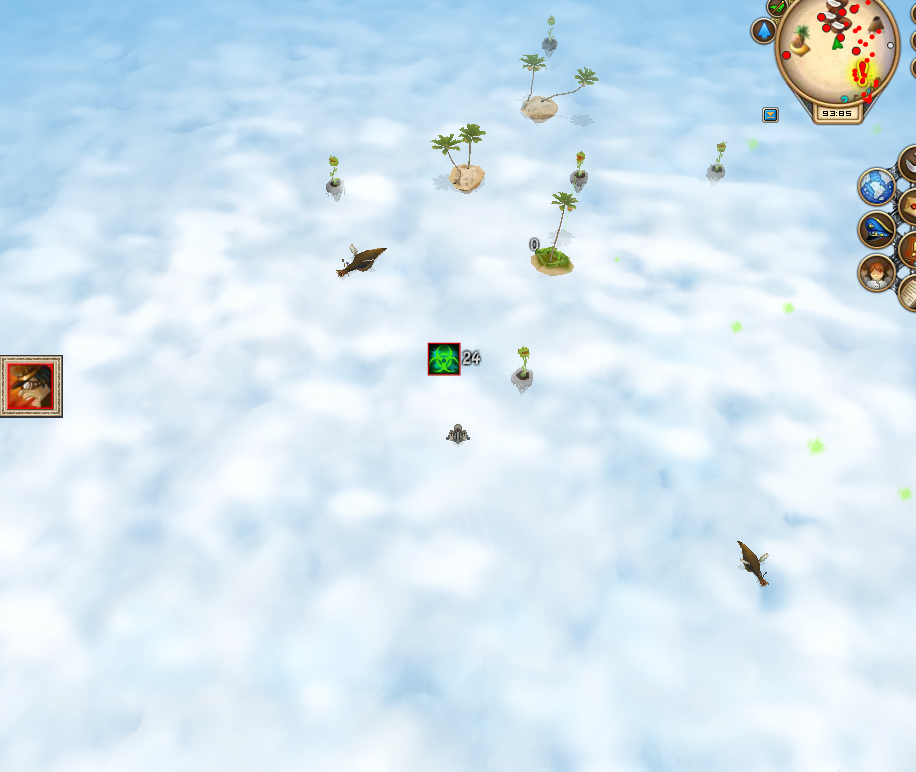palm: (515, 48, 601, 125), (527, 190, 584, 278), (430, 120, 491, 198)
